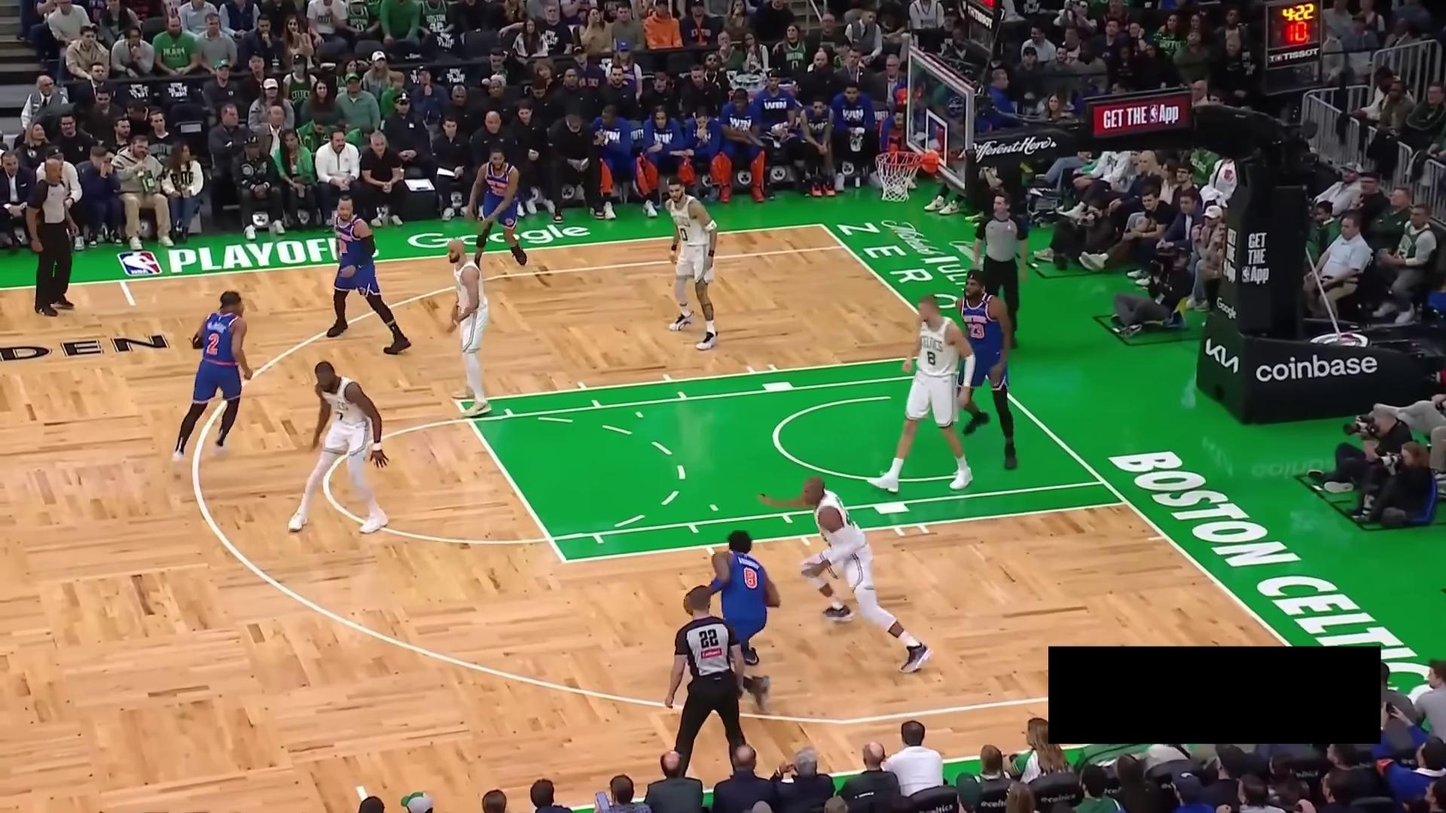number: (206, 331, 221, 356), (743, 566, 758, 590), (968, 323, 985, 338), (925, 349, 938, 367), (337, 239, 349, 255), (678, 226, 689, 242), (335, 410, 344, 422)
player: (758, 474, 932, 674), (868, 293, 977, 495), (287, 360, 390, 535), (170, 288, 255, 480), (699, 528, 782, 717), (325, 193, 412, 355), (954, 269, 1020, 470), (665, 176, 721, 352), (445, 238, 493, 418), (466, 147, 529, 278)
referee: (665, 585, 747, 779), (972, 189, 1030, 349), (26, 158, 78, 317)
rim: (874, 150, 925, 168)
